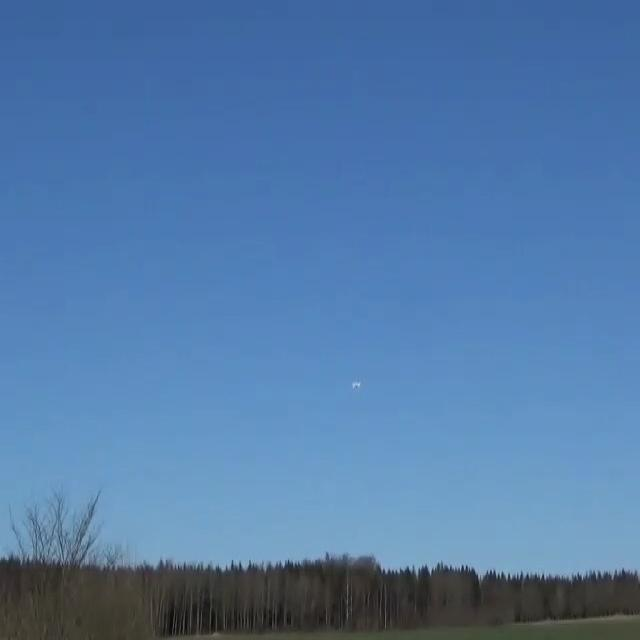drone: (352, 381, 361, 390)
